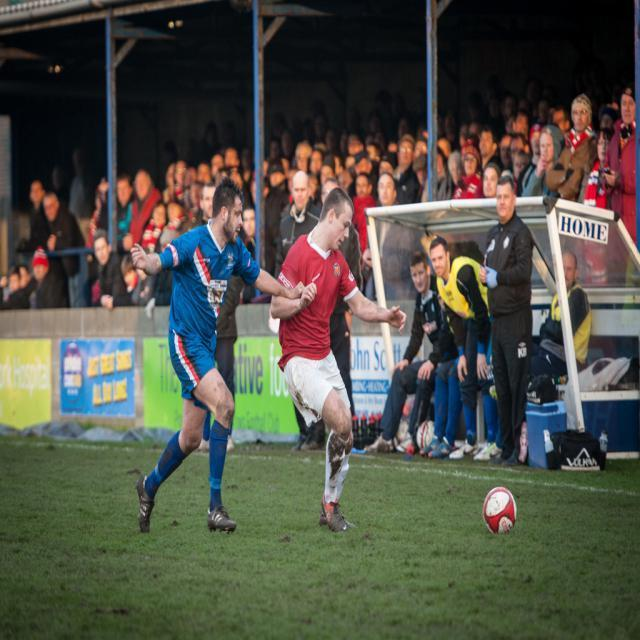football: (473, 478, 539, 532)
